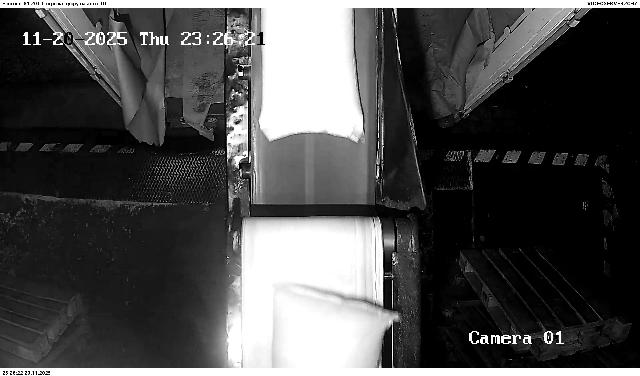bag: (259, 9, 364, 142), (272, 286, 398, 368)
